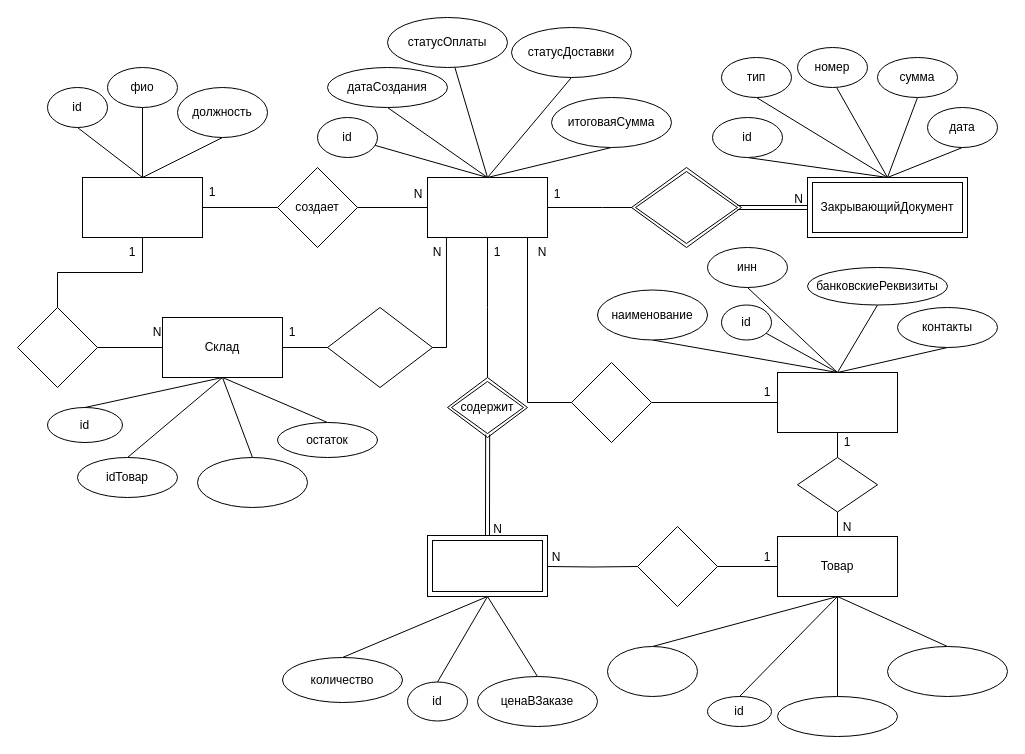
Image size: 1025x754. Some labels were removed from this diagram. The shapes that lost their labels are listed below. From the top down, each one's centre as x and y in pixels, then its label:
At pixel 142 207: "Сотрудник".
At pixel 487 207: "Заказ".
At pixel 686 207: "закрывается".
At pixel 57 347: "ответствен".
At pixel 379 347: "доставляется".
At pixel 611 402: "получает".
At pixel 837 402: "Поставщик".
At pixel 252 482: "ответственный".
At pixel 837 484: "поставляет".
At pixel 487 565: "ПозицияЗаказа".
At pixel 677 566: "включает".
At pixel 652 671: "навзание".
At pixel 947 671: "текущаяЦена".
At pixel 837 716: "едИзмерения".
